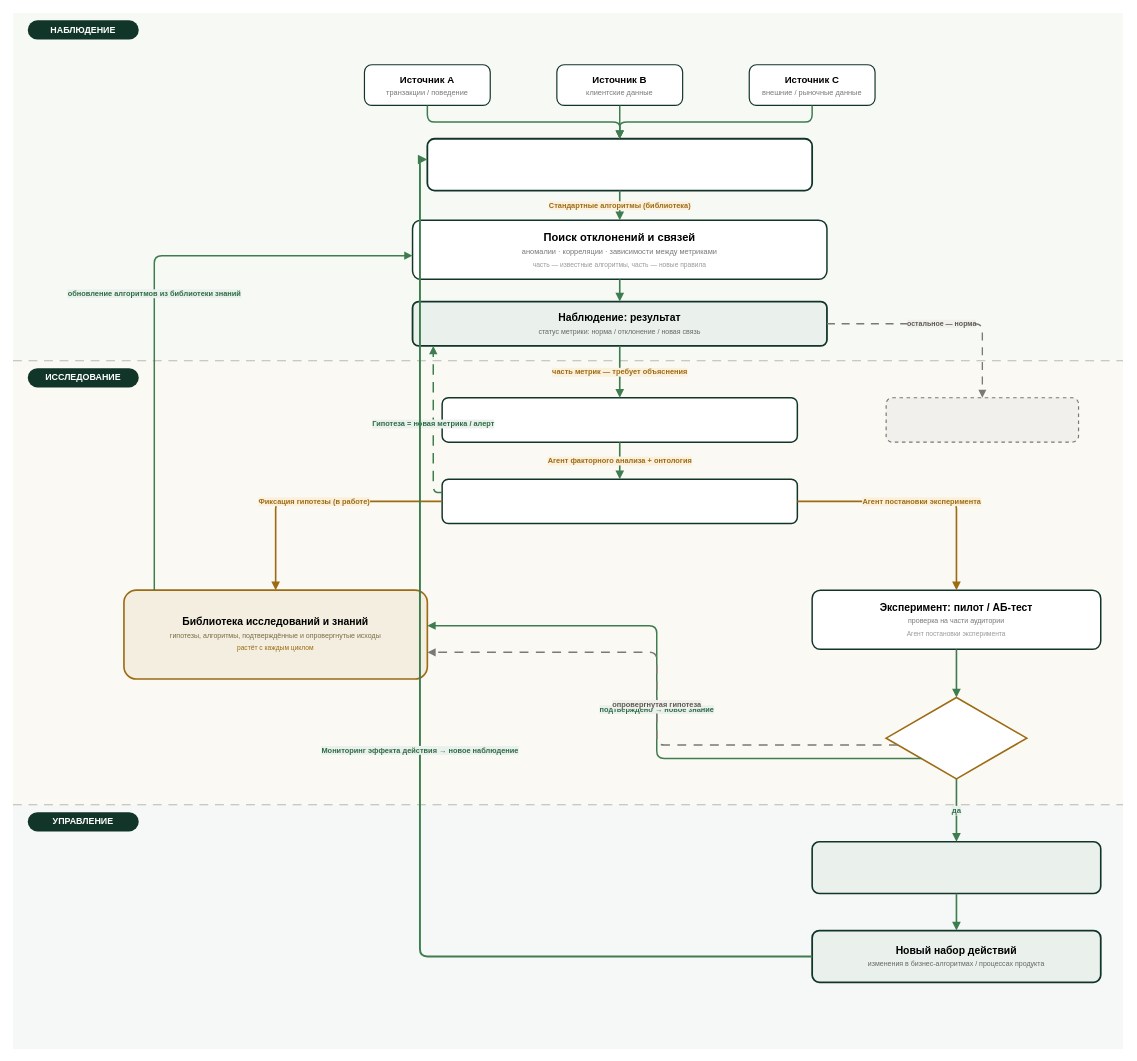
Image size: 1137x1061. Some labels were removed from this diagram. Here are the shapes that lost their labels. From the top down, the centre of each, then its label:
the point at 619,164: Продукт бизнес-сущность, окружённая данными из разных источников
the point at 619,420: Инсайт отклонение зафиксировано и объяснено
the point at 982,419: Норма — цикл закрыт отклонение не значимо
the point at 619,501: Гипотеза предполагаемая причина и действие
the point at 956,737: Гипотеза подтвердилась?
the point at 956,867: Действие / внедрение подтверждённое решение применяется к продукту
